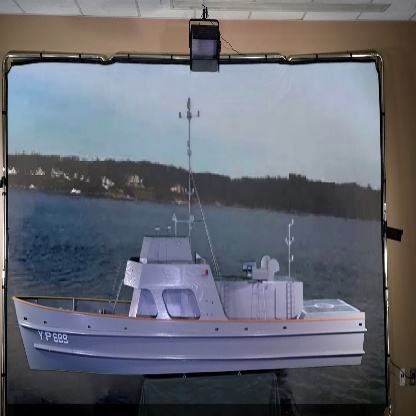YP689: (13, 77, 368, 378)
